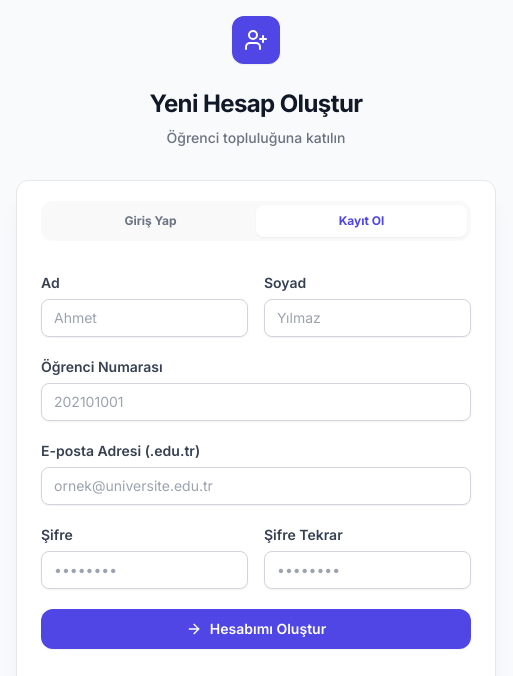
Test: Register Component › displays error message on registration failure
This screenshot has width=513, height=676.
In the field with placeholder "Ahmet": (144, 318) [41, 299, 248, 337], type "John"
In the field with placeholder "Yılmaz": (368, 318) [264, 299, 471, 337], type "Doe"
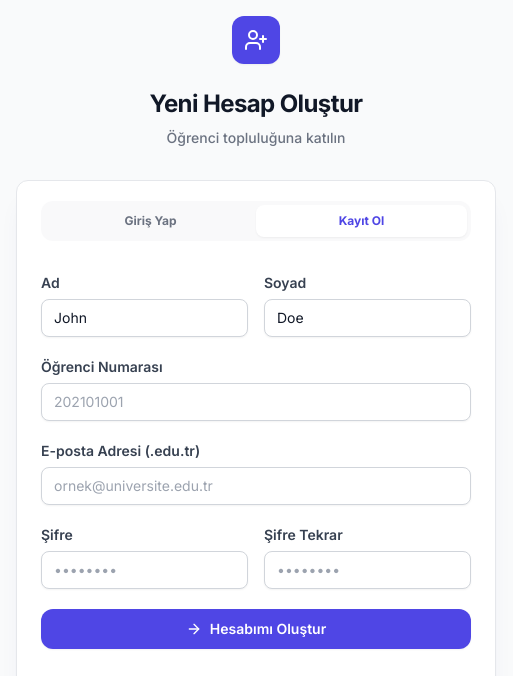
In the field with placeholder "202101001": (256, 402) [41, 383, 471, 421], type "123"
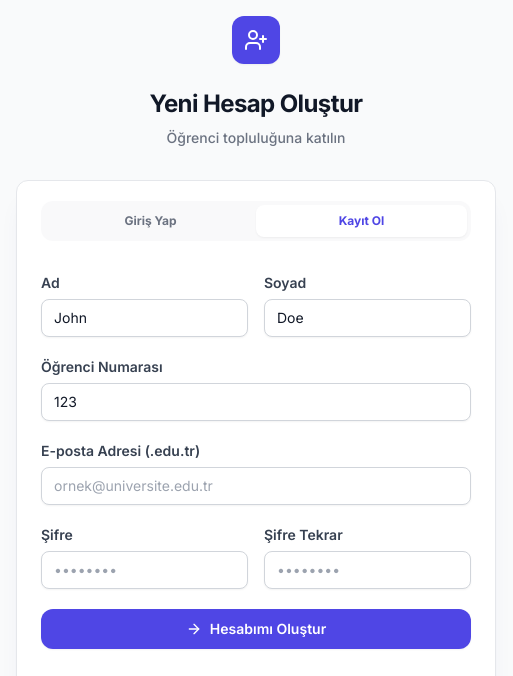
In the field with placeholder "ornek@universite.edu.tr": (256, 486) [41, 467, 471, 505], type "test@test.com"
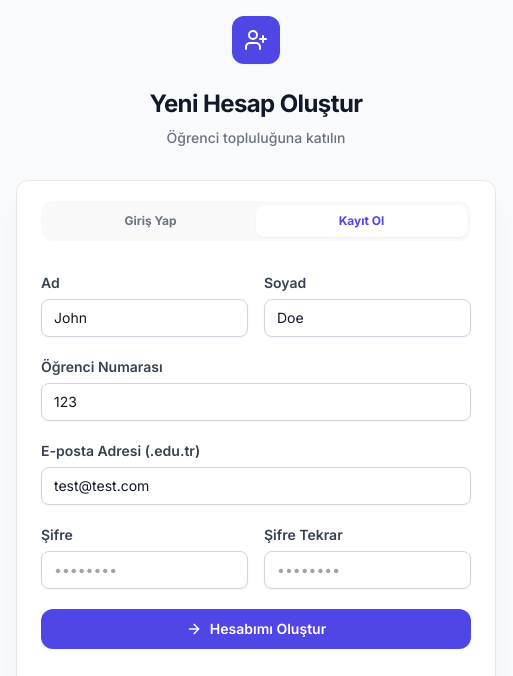
In the 1st password field with placeholder "••••••••": (144, 570) [41, 551, 248, 589], type "password123"
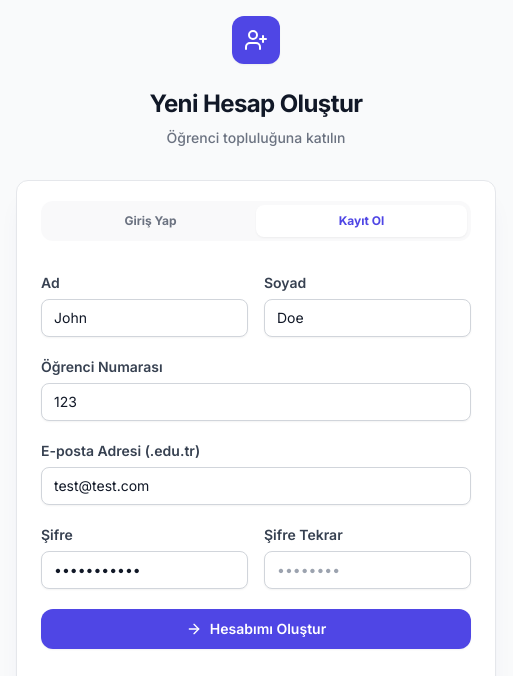
In the password field with placeholder "••••••••": (368, 570) [264, 551, 471, 589], type "password123"
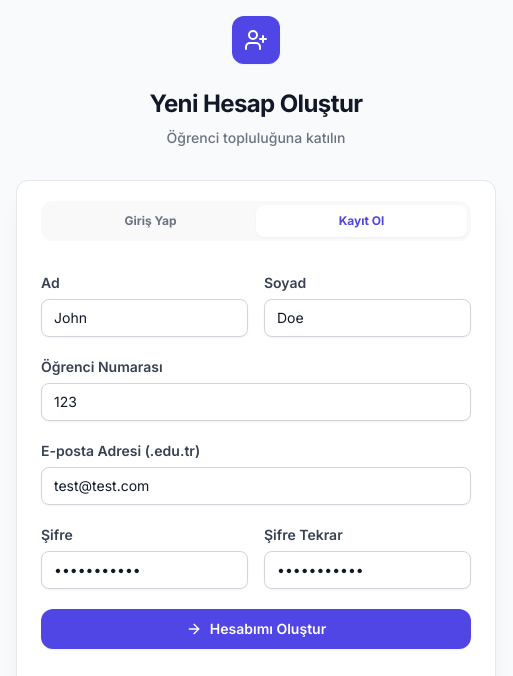
Submit the form with placeholder "ornek@universite.edu.tr", box [41, 273, 471, 649]
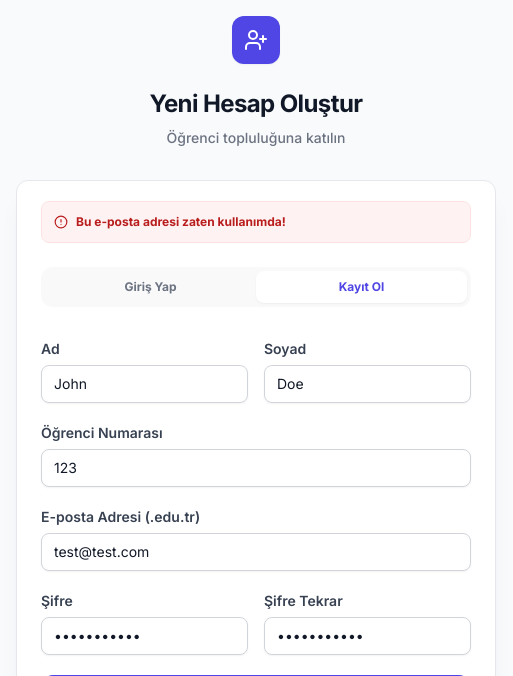
Expected: the text "Bu e-posta adresi zaten kullanımda!" is shown, [41, 201, 471, 243]
